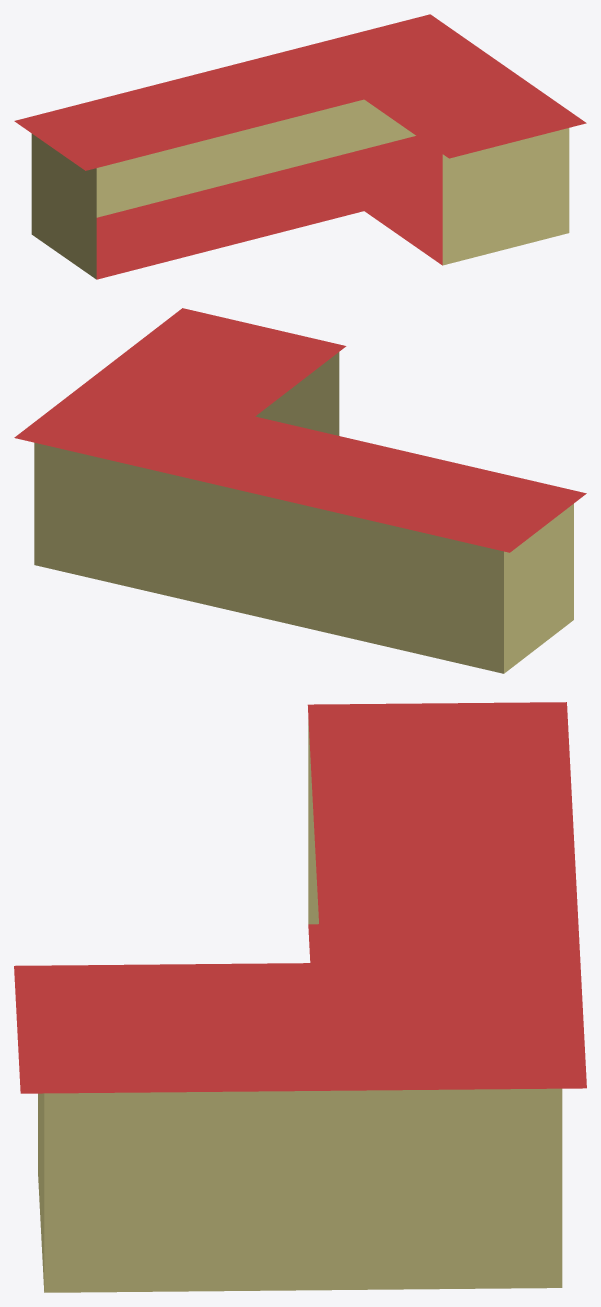
3 renders of one model, top to bottom at view 1: azimuth 30°, elevation 25°; view 2: azimuth 150°, elevation 25°; view 3: azimuth 270°, elevation 25°, orthographic. The views are drawn at different scales.
Size of the model in its own units: 19.24 by 11.9 by 4.8.
